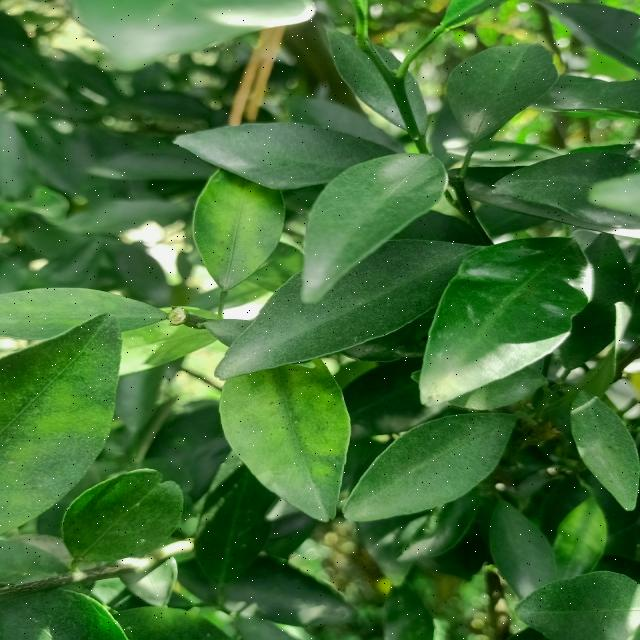blackspot: (225, 370, 358, 510), (194, 165, 294, 282)
